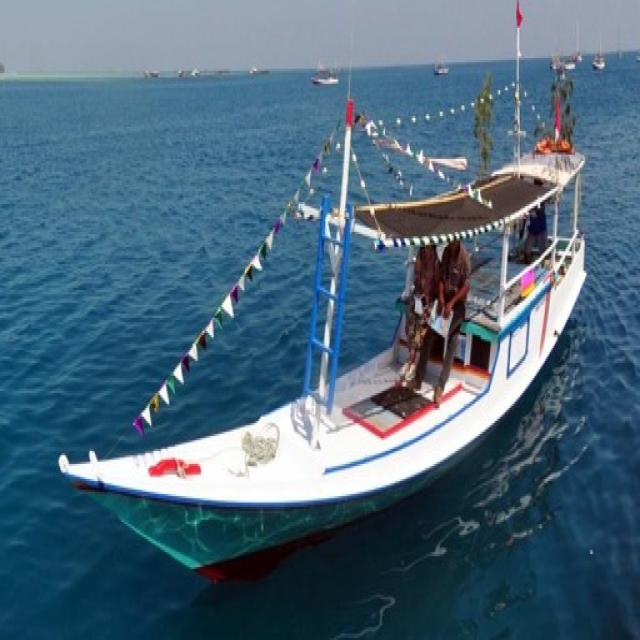Fishing Boat: (51, 121, 593, 534)
